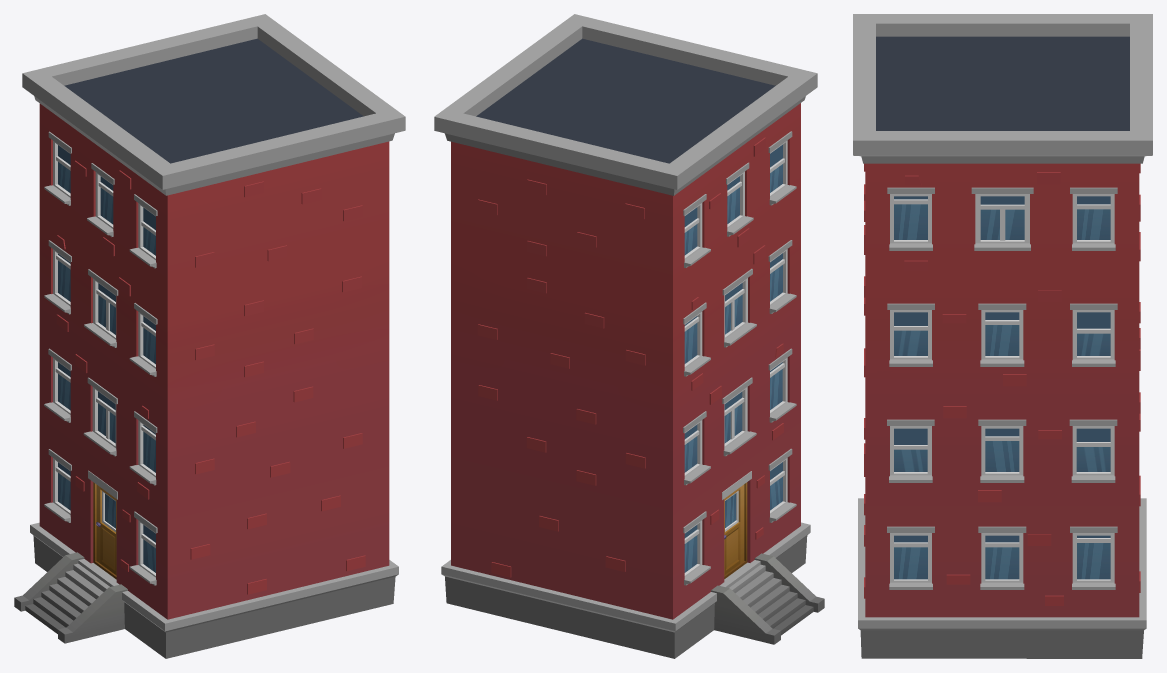
File: Building_2_2_J.fbx
3 views of the same model, side by side, from view 1: azimuth 30°, elevation 25°; view 2: azimuth 150°, elevation 25°; view 3: azimuth 270°, elevation 25° (orthographic). The views are drawn at different scales.
Parts seen in each view (by area): view 1: Building_2_2_J; view 2: Building_2_2_J; view 3: Building_2_2_J.
Boxes of the visible parts, <box> form: Building_2_2_J: <box>14,14,405,658</box>; Building_2_2_J: <box>434,14,824,658</box>; Building_2_2_J: <box>853,14,1152,658</box>.
Size of the model in its own units: 754 by 1191 by 620.
